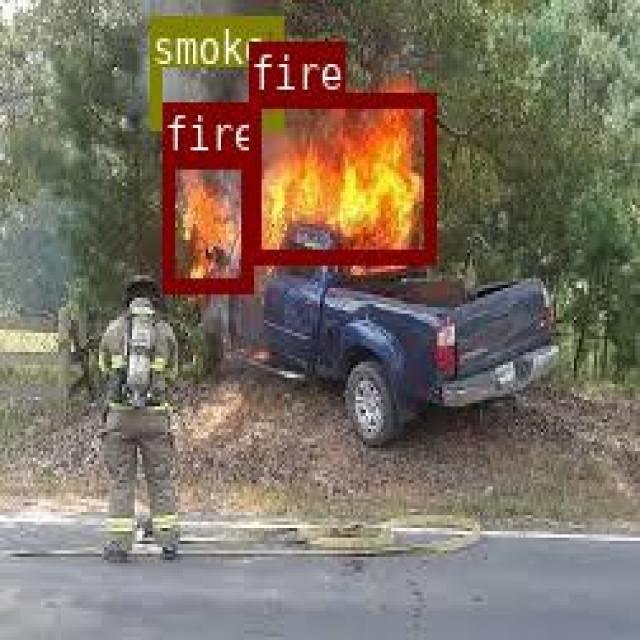fire: (247, 90, 432, 262), (162, 154, 251, 290)
smoke: (148, 13, 282, 125)
